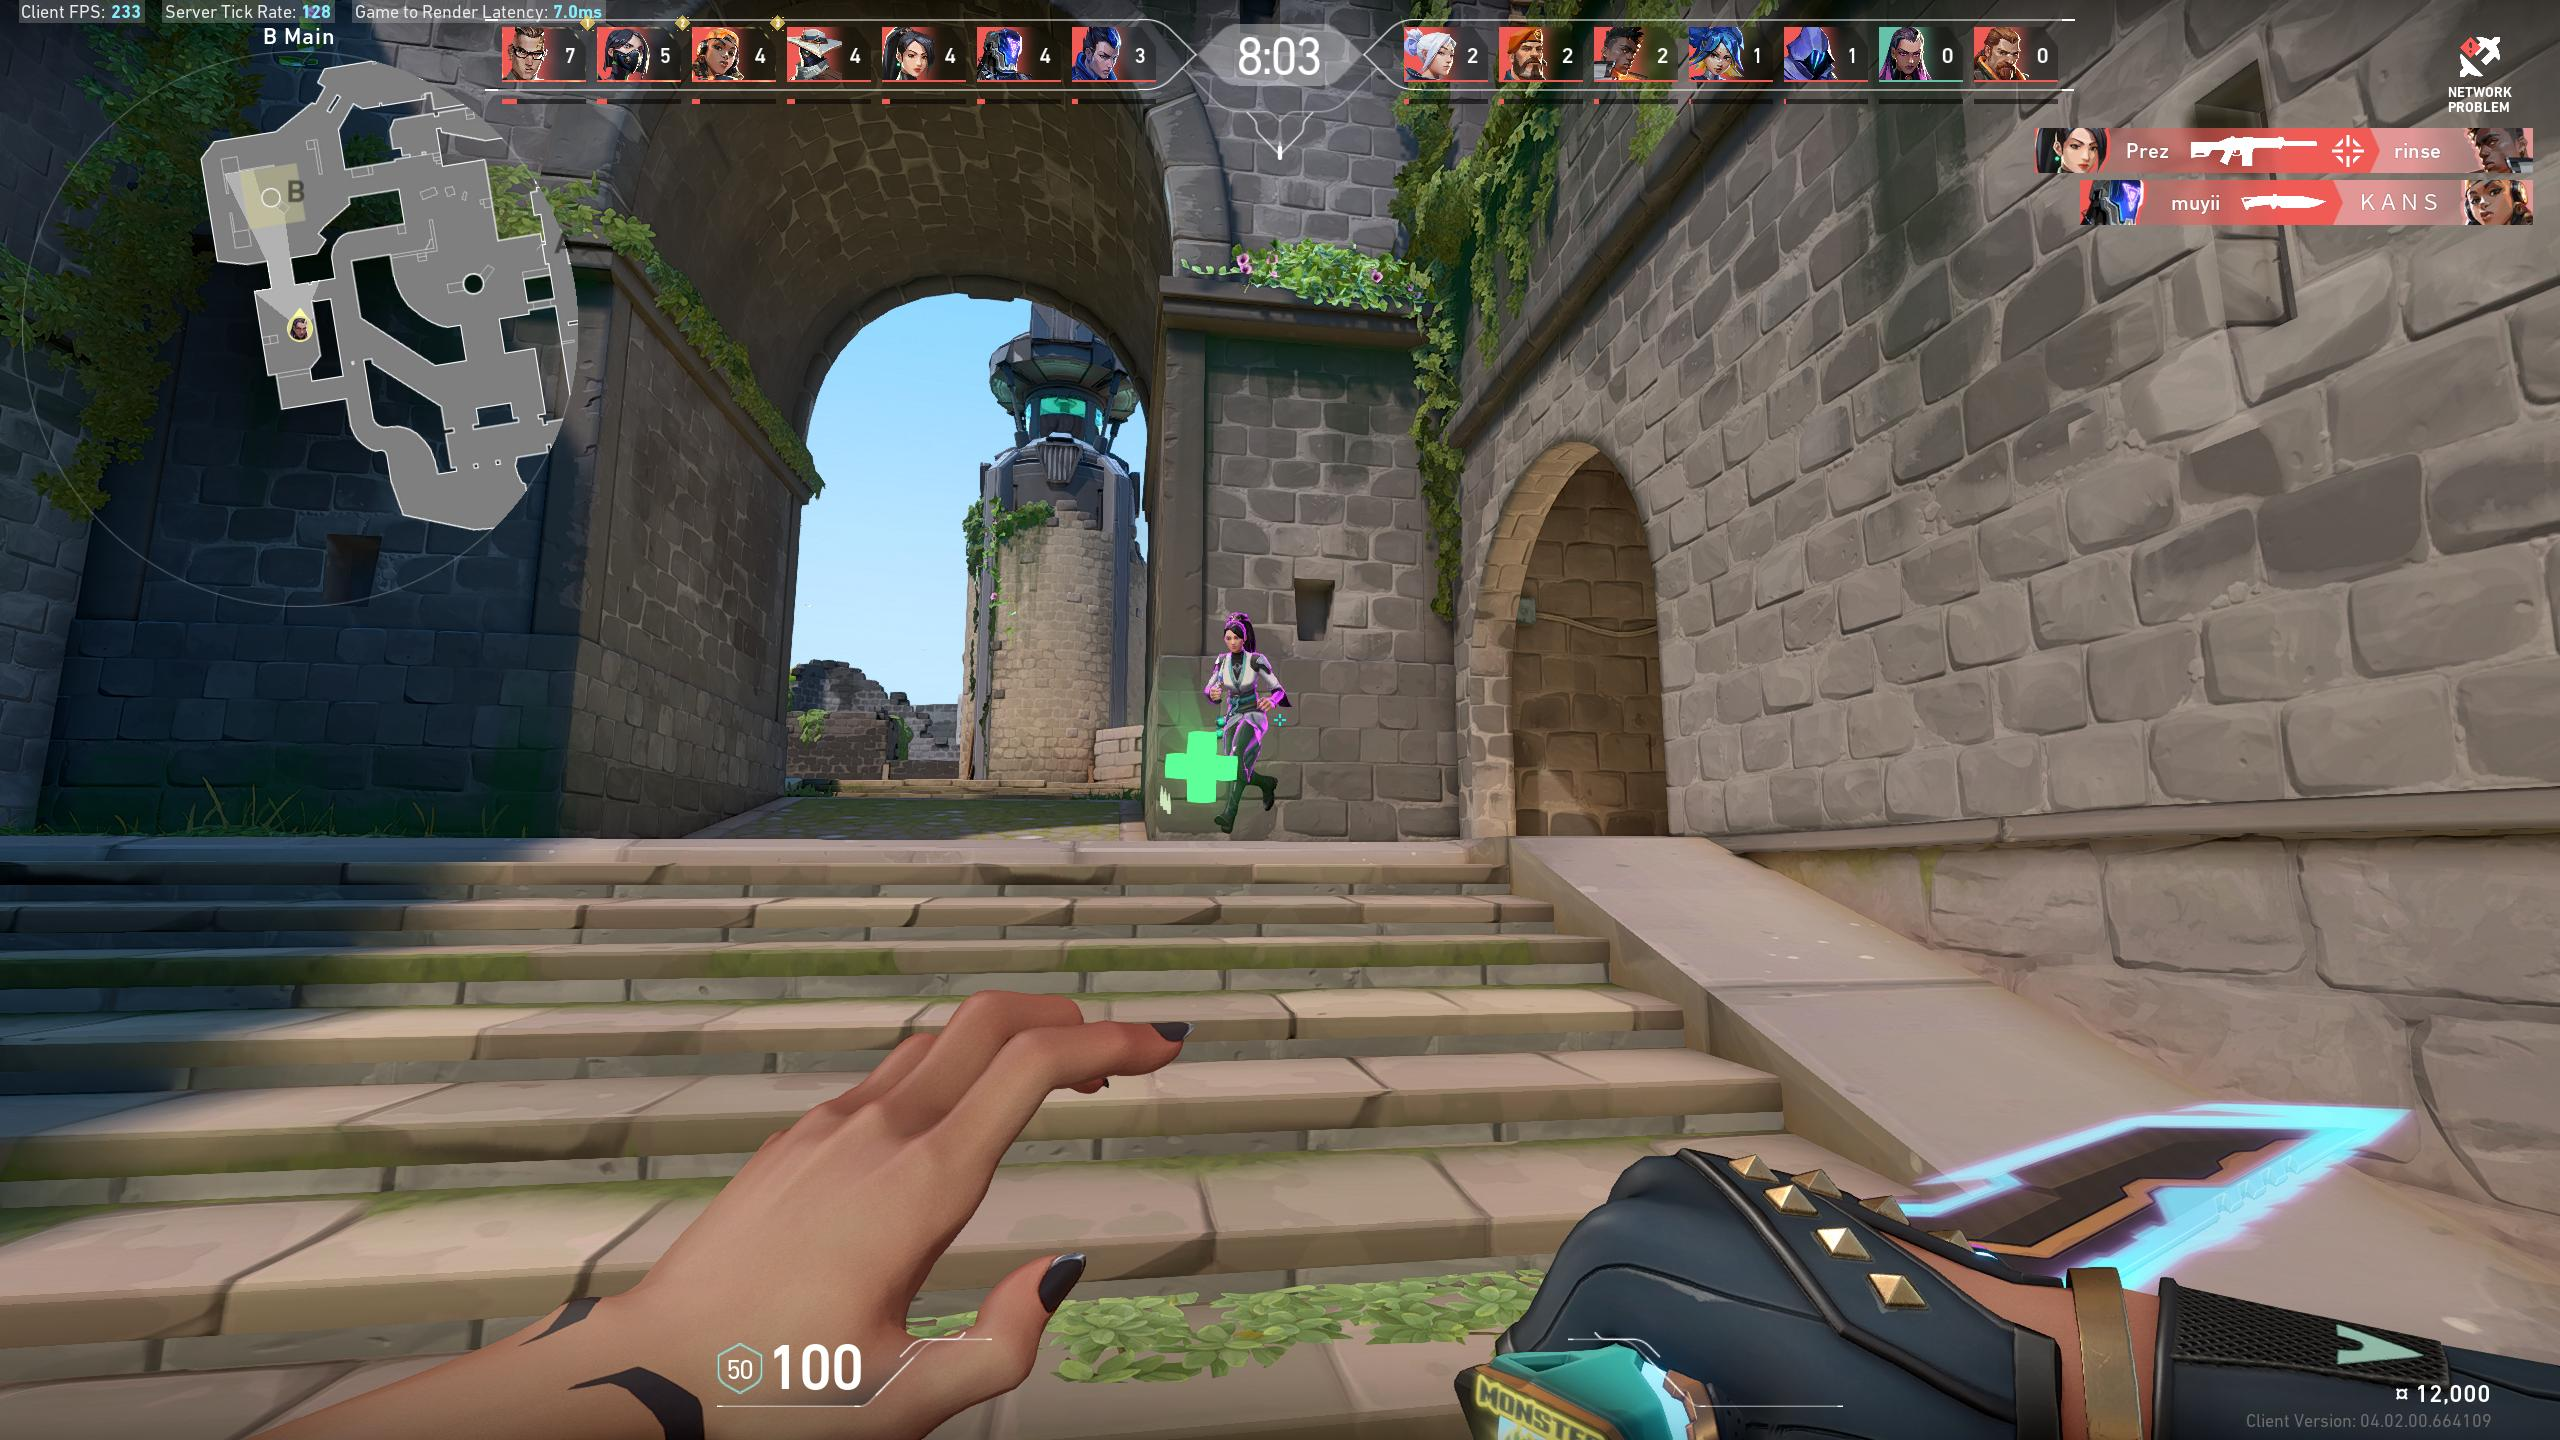enemyBody: (1231, 656, 1252, 700)
enemyHead: (1227, 631, 1243, 647)
